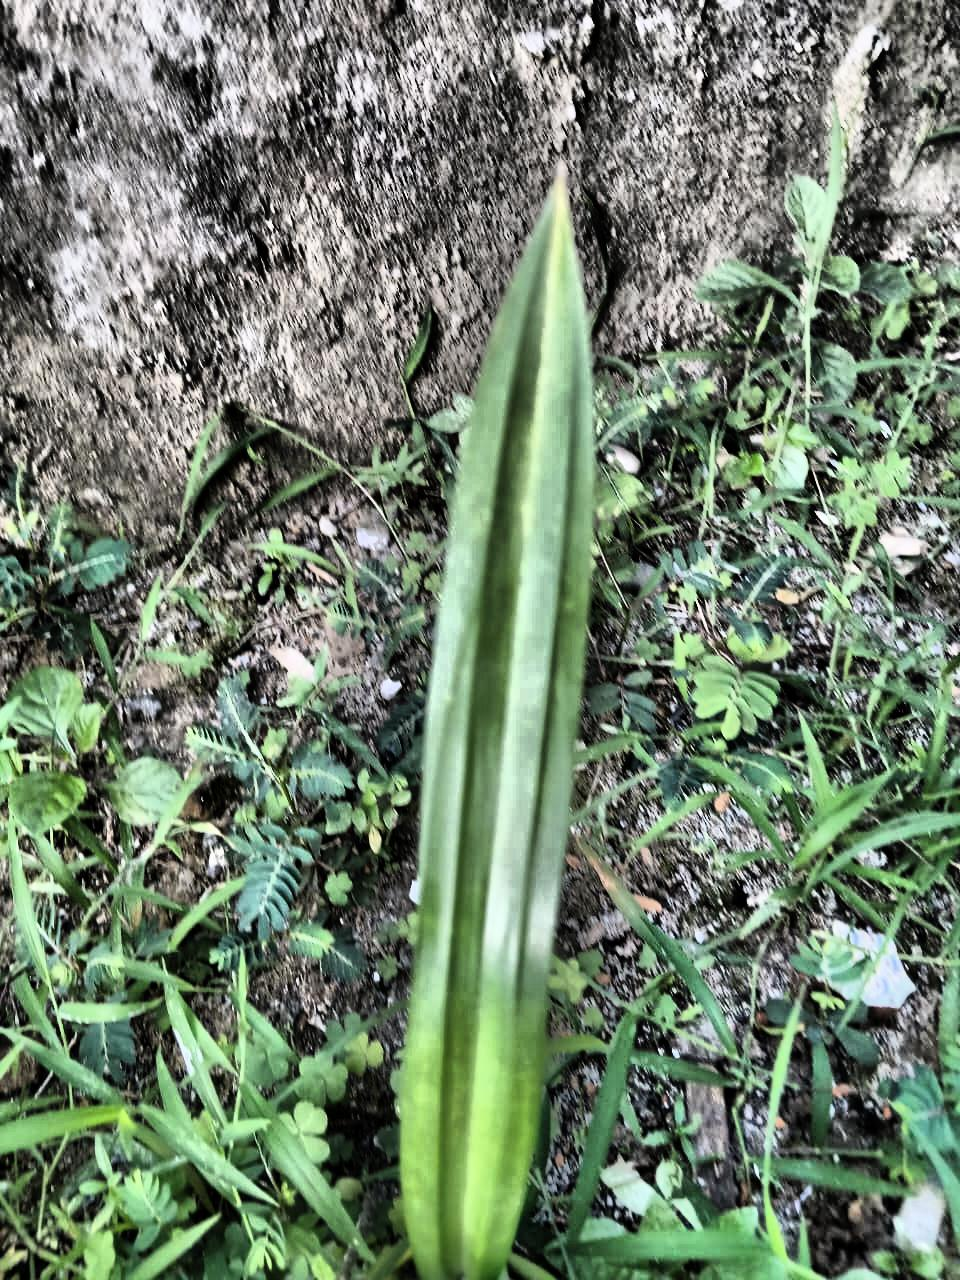daun pandan: (398, 178, 594, 1279)
